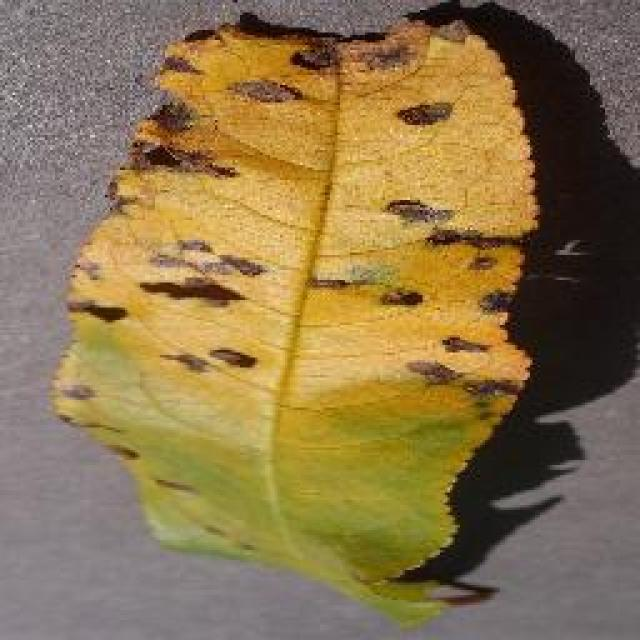Peach_Bacterial_Spot: (135, 73, 498, 450)
